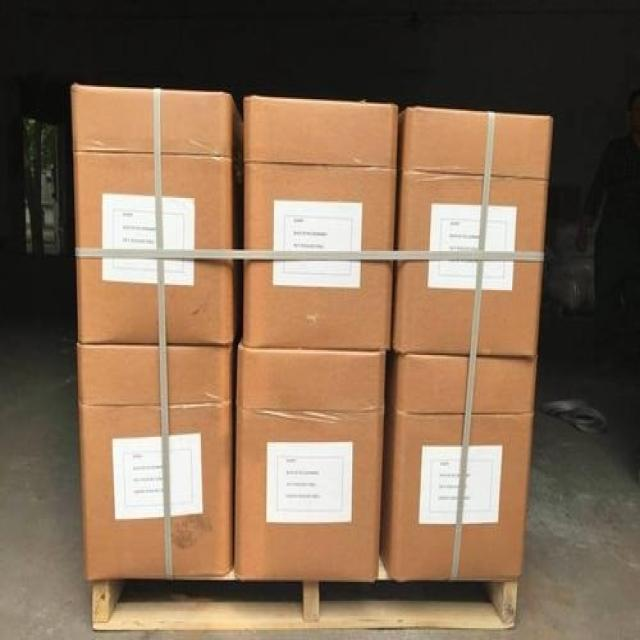box: (72, 82, 242, 346), (392, 106, 553, 357), (243, 96, 399, 352), (77, 346, 233, 582), (233, 345, 387, 582), (379, 352, 538, 580)
